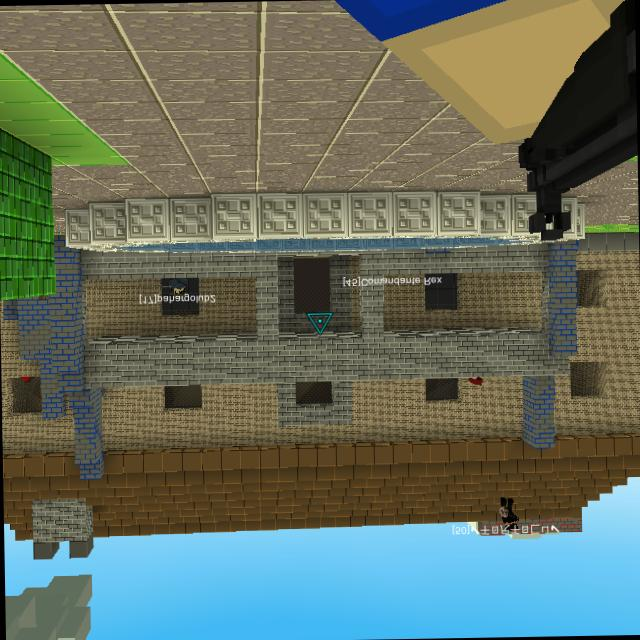enemy: (467, 376, 483, 386), (546, 213, 554, 229)
